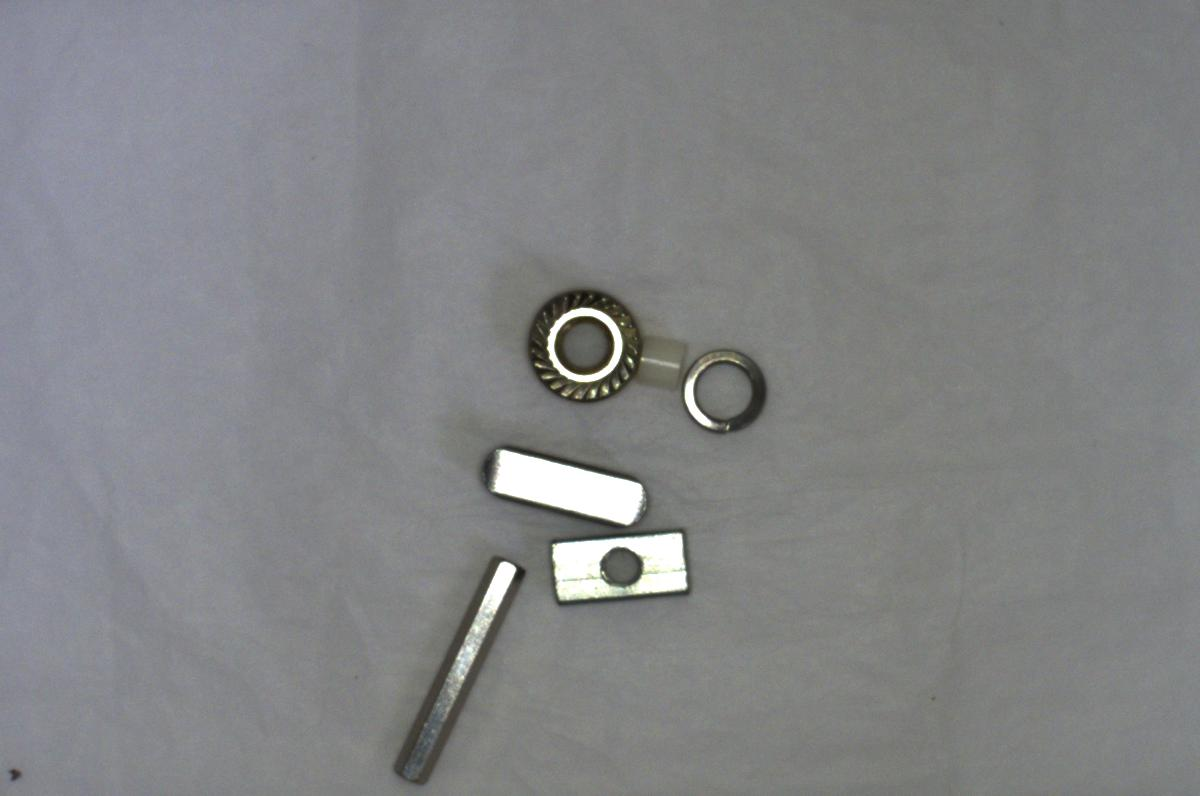Flange nut: (508, 278, 639, 410)
Keybar: (472, 436, 658, 526)
Plastic cushion pillar: (630, 322, 685, 390)
Rectangular nut: (545, 525, 692, 603)
Spring washer: (380, 548, 522, 789), (678, 343, 773, 441)
